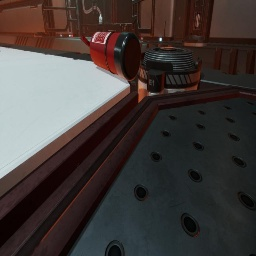FireExtinguisher ]: (80, 31, 141, 81)
